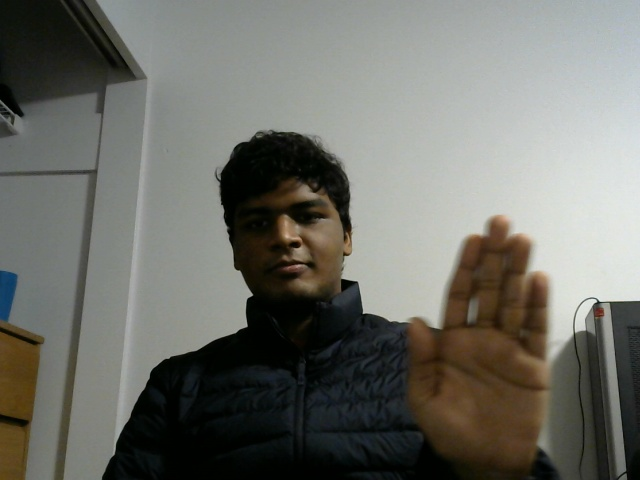Hi: (392, 210, 563, 480)
